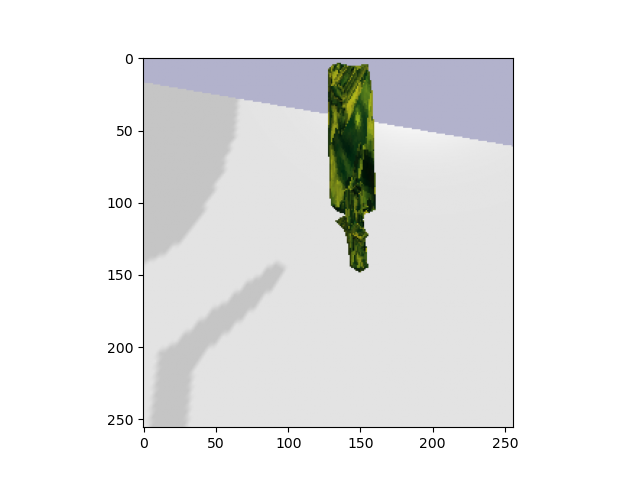v249b387_108: (310, 59, 394, 283)
